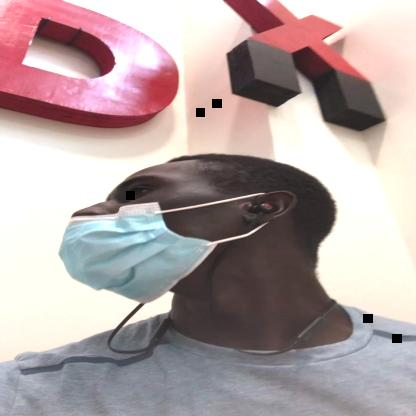mask: (56, 162, 263, 303)
